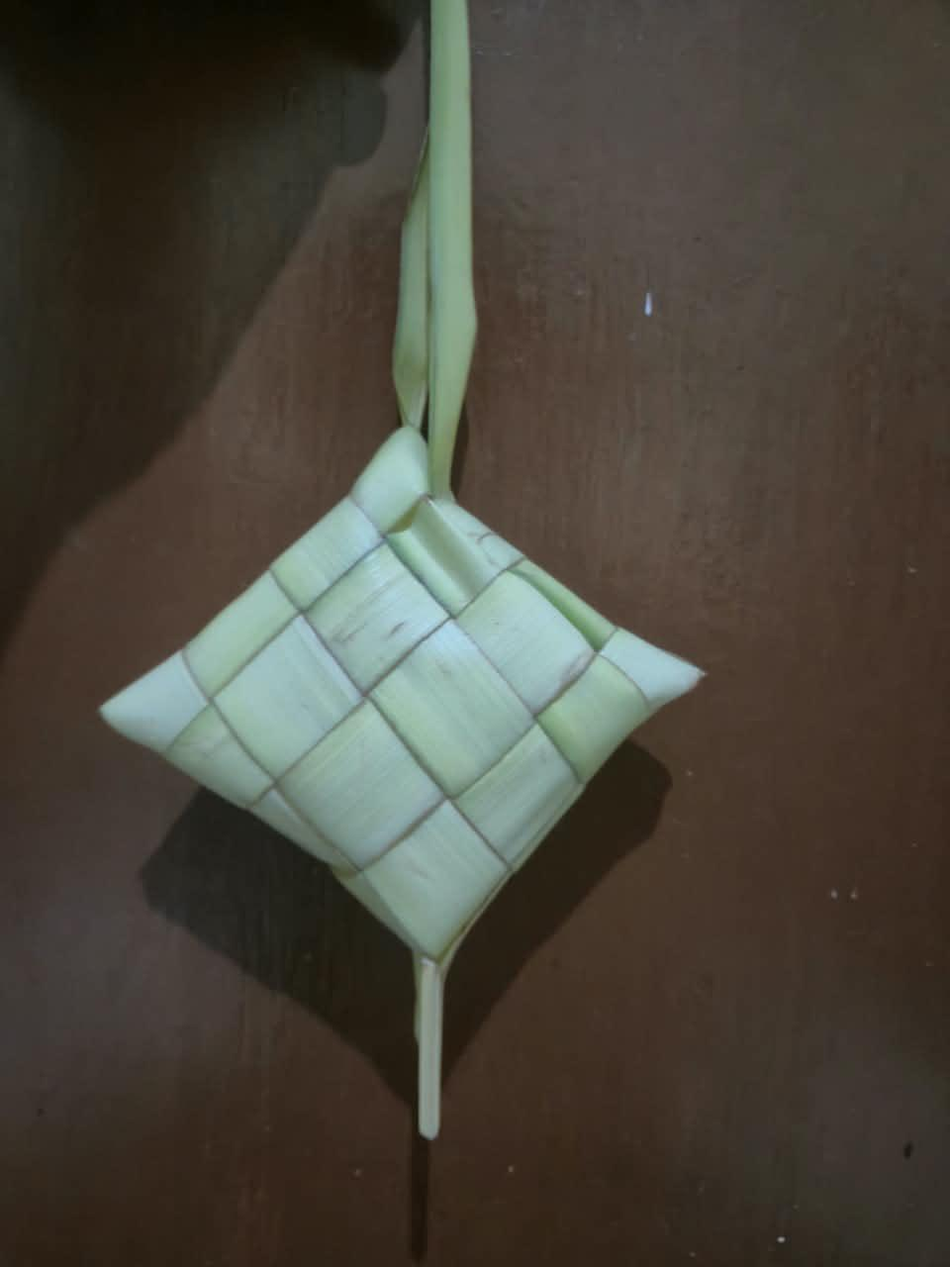Tipat Nasi: (102, 428, 702, 965)
